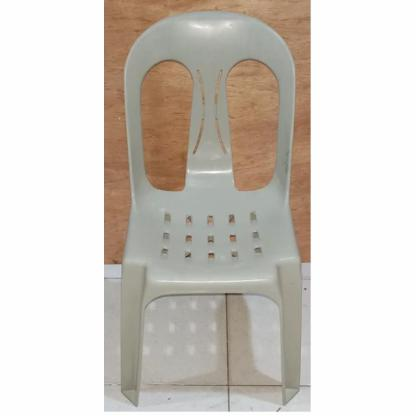chair: (121, 6, 312, 415)
